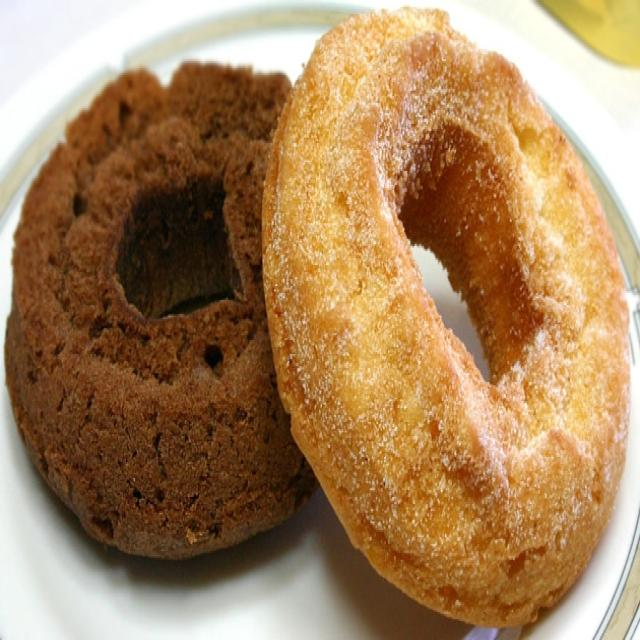炸货点心: (15, 10, 628, 618)
